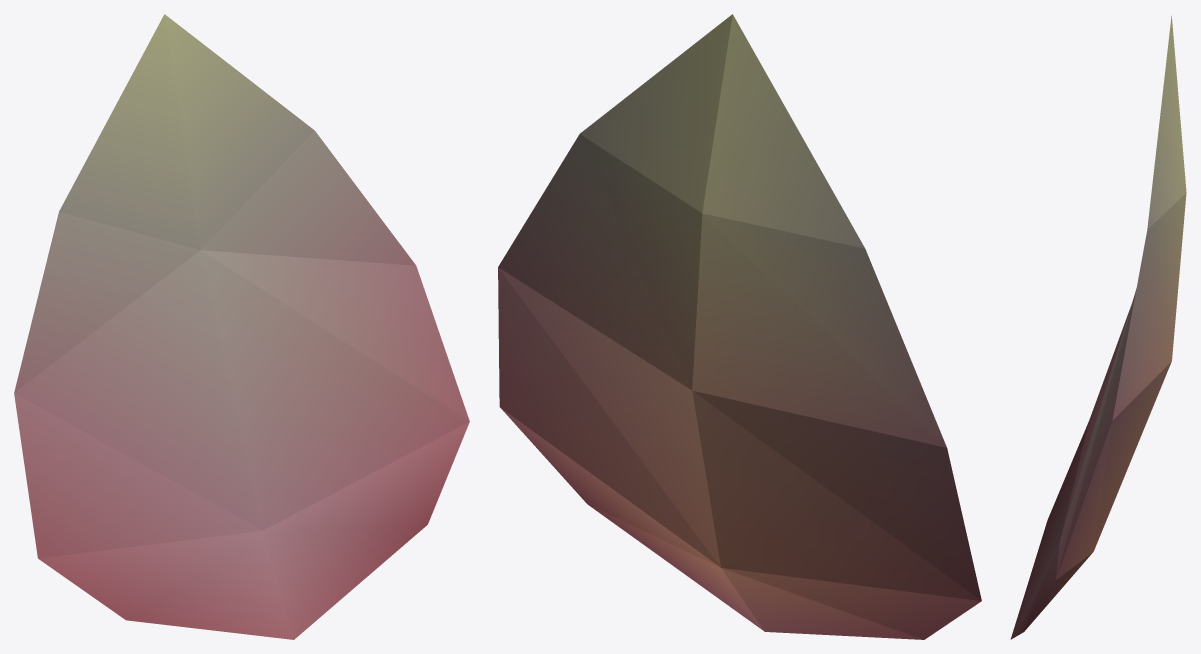
File: FlowerLeaf.fbx
The picture shows the model from 3 angles, left to right: view 1: azimuth 30°, elevation 25°; view 2: azimuth 150°, elevation 25°; view 3: azimuth 270°, elevation 25°; orthographic projection. The views are drawn at different scales.
Visible parts, largest first — view 1: FlowerLeaf; view 2: FlowerLeaf; view 3: FlowerLeaf.
Boxes of the visible parts, left/top/right/bottom form: FlowerLeaf: left=14, top=14, right=469, bottom=639; FlowerLeaf: left=498, top=14, right=981, bottom=639; FlowerLeaf: left=1010, top=15, right=1186, bottom=639.
Size of the model in its own units: 18.41 by 24.6 by 6.54.
